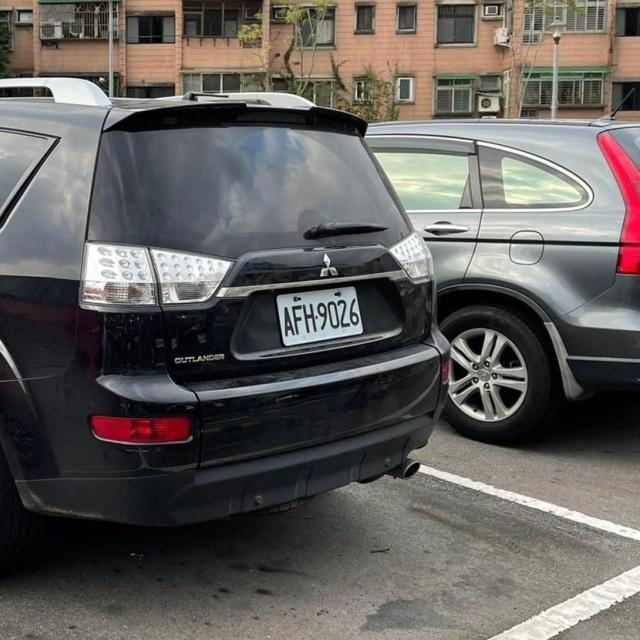W: (269, 282, 369, 349)
